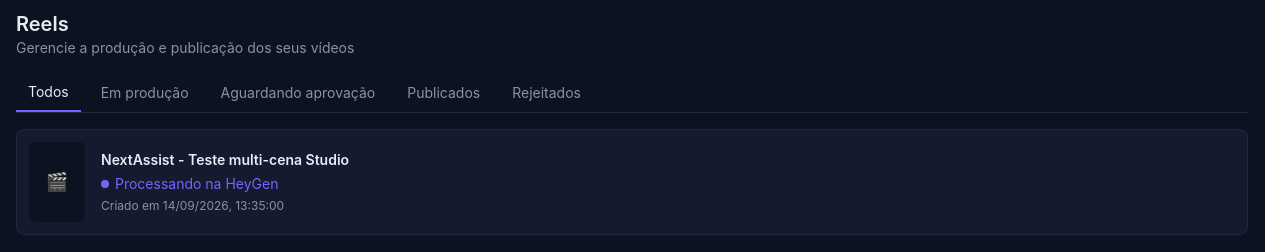
Test: ReelApprovalPanel › aba vazia mostra a mensagem real de categoria vazia, sem inventar dado
Expected: the link "NextAssist - Teste multi-cena Studio" is shown, 101,151 -> 349,168
Click the tab "Rejeitados": (547, 93) 500,74 -> 593,112
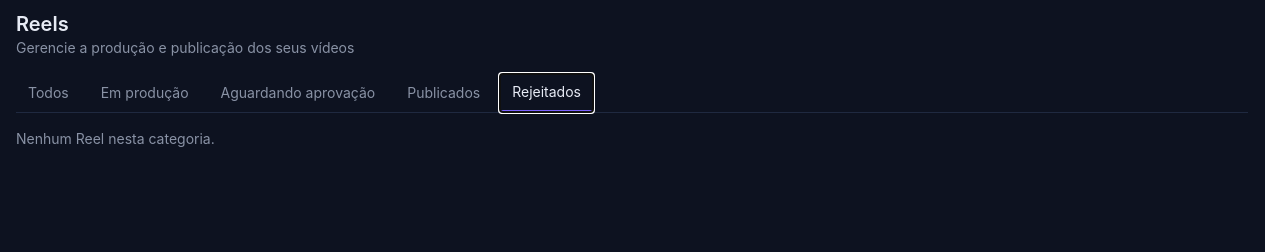
Result: the text "Nenhum Reel nesta categoria." is shown at 16,130 -> 215,147
